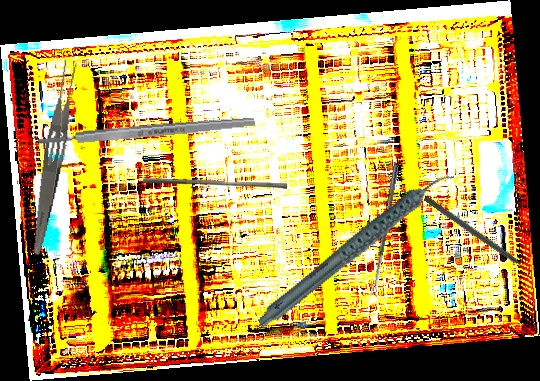Dressing Forceps: (28, 58, 82, 258)
Handpiece: (234, 169, 480, 332)
Hook Surgical: (422, 195, 535, 277)
Pusher: (143, 178, 287, 189)
Scalpel Handle: (37, 115, 256, 148)
Surgical Spoon: (369, 162, 400, 296)
